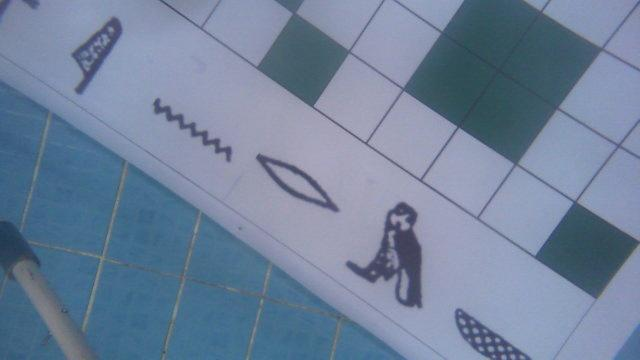Basket: (449, 303, 547, 360)
Mouth: (254, 145, 342, 215)
Owl: (346, 187, 426, 312)
Reed: (65, 14, 131, 97)
Water: (148, 87, 234, 165)
